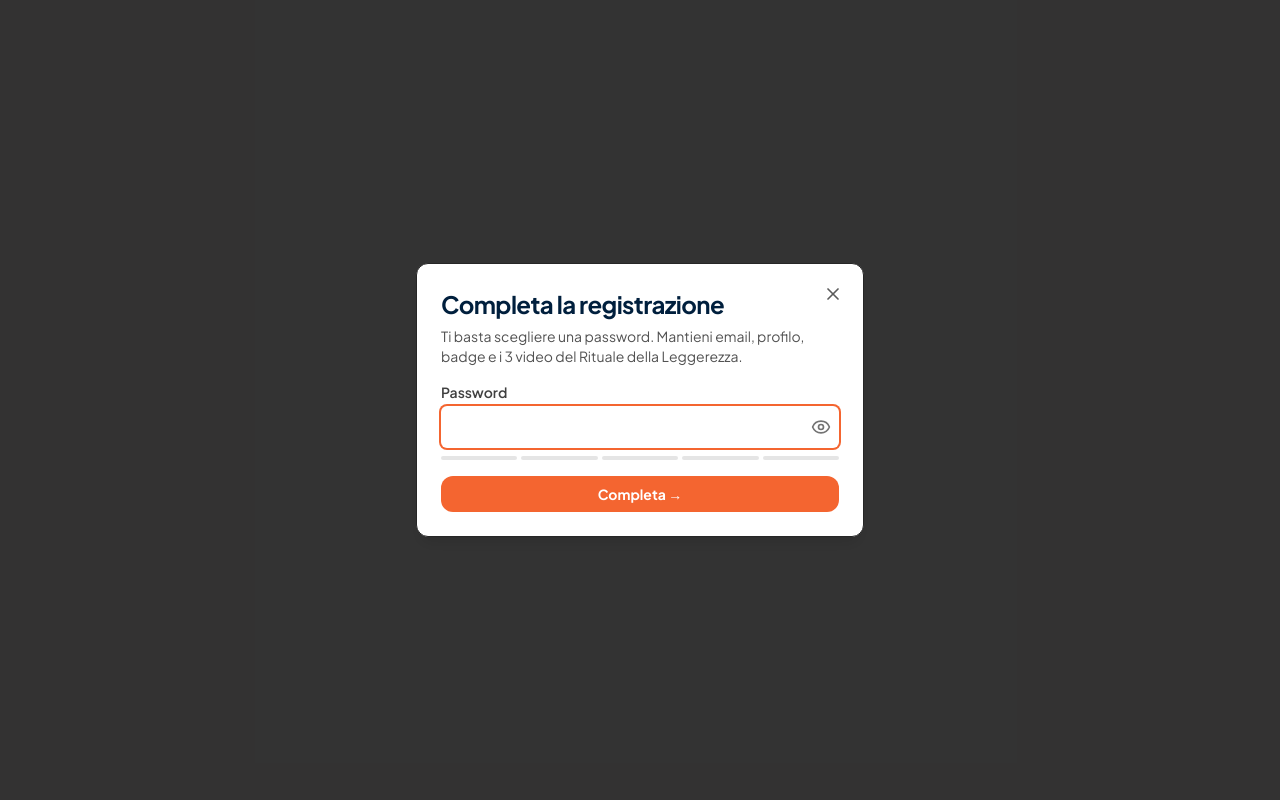
Scenario: <UpgradeModal /> › shows inline error when upgrade returns ok=false
The image size is (1280, 800).
Type "ValidPass123!" into the password field labelled "Password" at (640, 427), box [441,406,839,448]
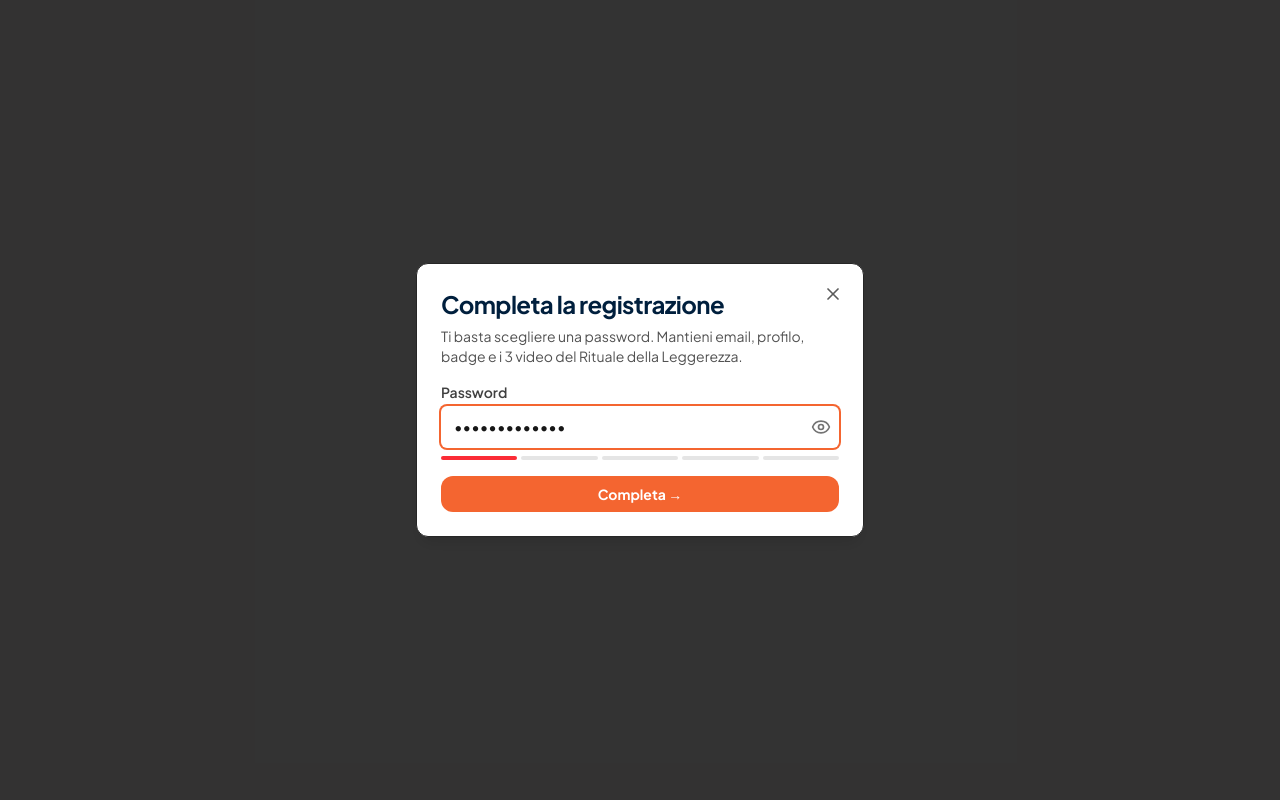
Click the button "Completa →" at (640, 494), box [441,476,839,512]
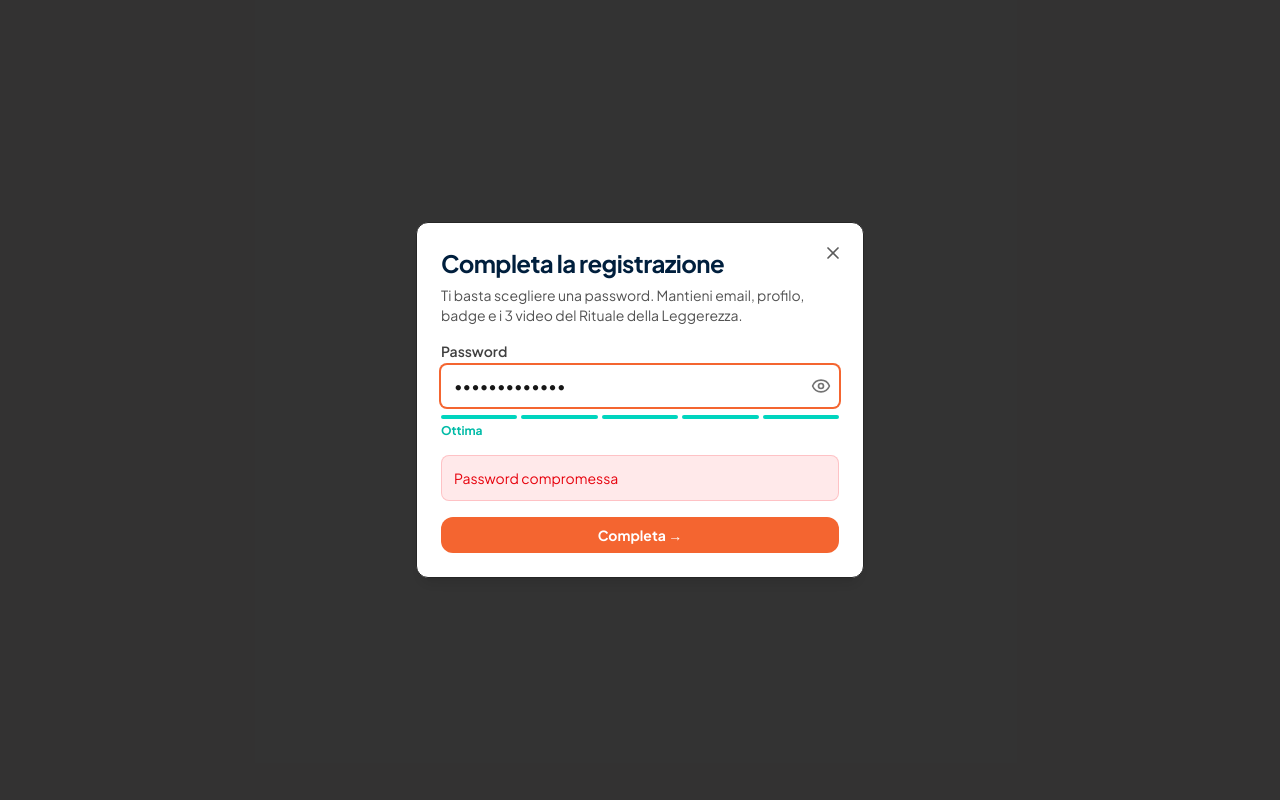
Expected: the text "Password compromessa" is shown, [441,455,839,501]
